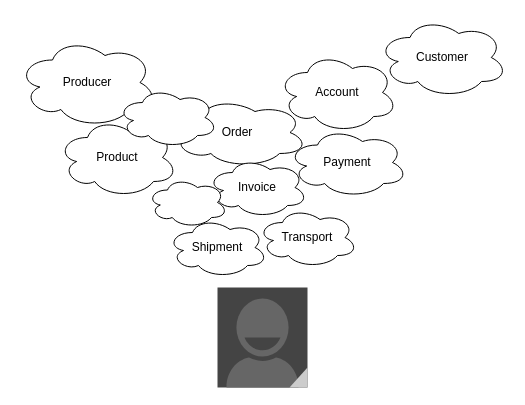
This 525x405 diagram has some shape labels left out. The box of each missing label's shape, as (x1, y1, x2, y2) in pixels:
Production: (116, 86, 218, 148)
Warehouse: (146, 176, 228, 228)
